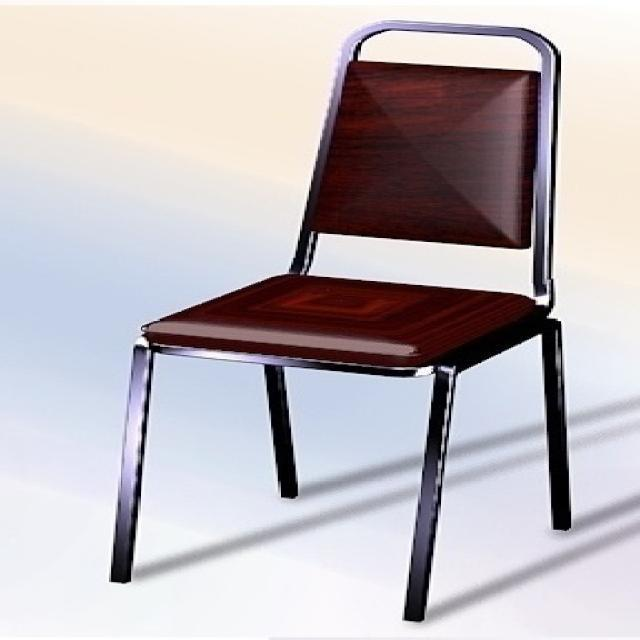chair: (109, 15, 578, 624)
